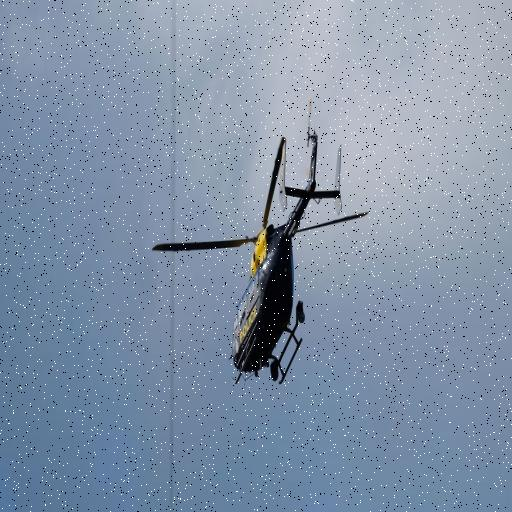helicopter: (157, 97, 371, 402)
